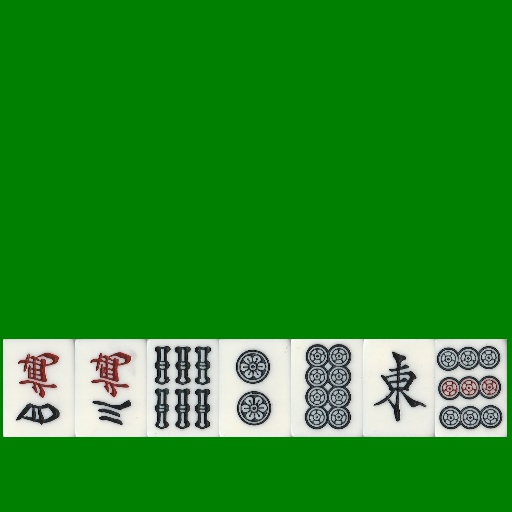2p: (219, 339, 291, 437)
3m: (75, 339, 147, 437)
4m: (3, 339, 75, 437)
6s: (147, 339, 219, 437)
8p: (291, 339, 363, 437)
9p: (435, 339, 507, 437)
east: (363, 339, 435, 437)
